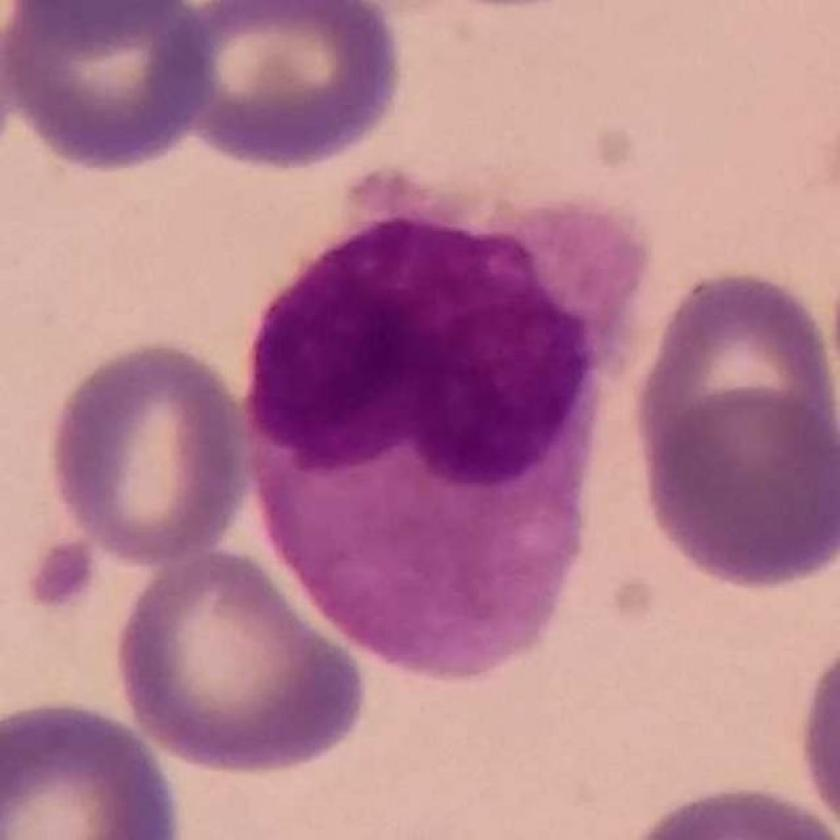monocyte: (239, 161, 650, 706)
